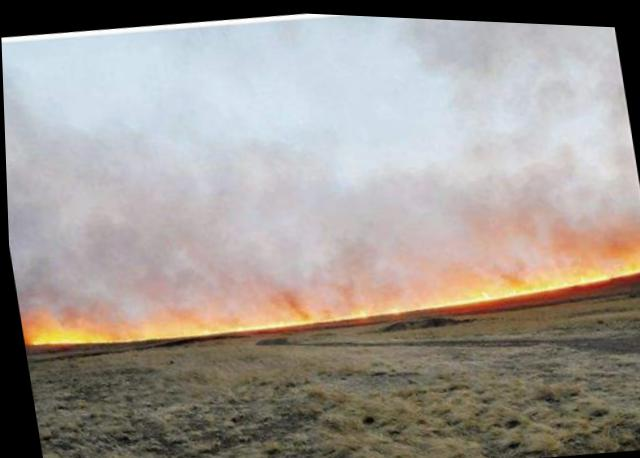fire: (18, 230, 639, 372)
